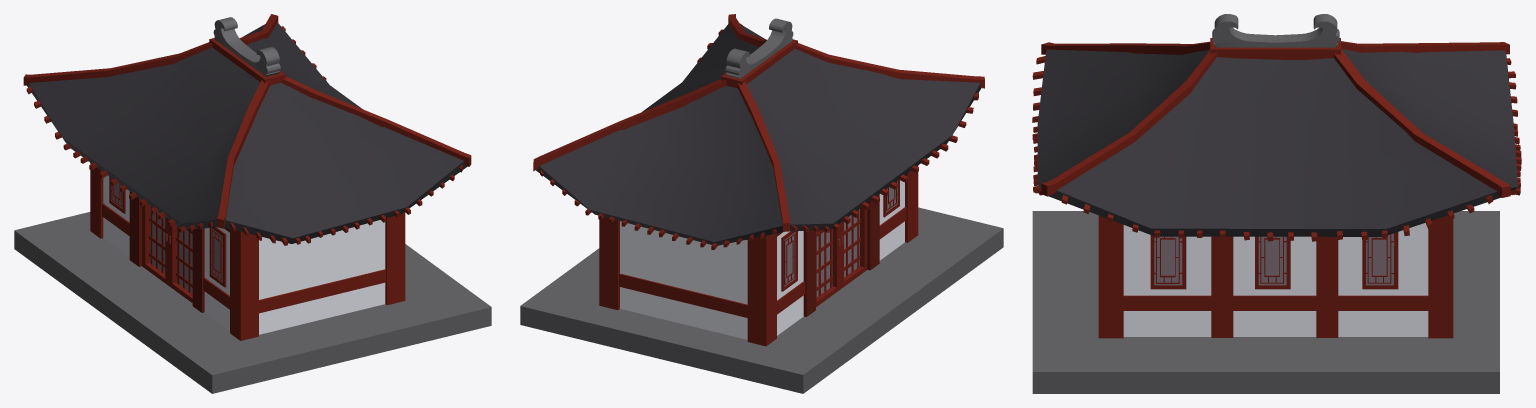
The model's file is houme016.fbx.
3 renders of one model, left to right at view 1: azimuth 30°, elevation 25°; view 2: azimuth 150°, elevation 25°; view 3: azimuth 270°, elevation 25°, orthographic. The views are drawn at different scales.
Parts seen in each view (by area): view 1: houme_16, foundation_16_1, on_the_roof_16_1; view 2: houme_16, foundation_16_1, on_the_roof_16_1; view 3: houme_16, foundation_16_1, on_the_roof_16_1.
Boxes of the visible parts, left/top/right/bottom form: houme_16: left=23, top=14, right=471, bottom=340; foundation_16_1: left=14, top=212, right=491, bottom=393; on_the_roof_16_1: left=213, top=17, right=280, bottom=76; houme_16: left=533, top=14, right=984, bottom=346; foundation_16_1: left=520, top=207, right=1003, bottom=393; on_the_roof_16_1: left=725, top=18, right=793, bottom=78; houme_16: left=1032, top=38, right=1521, bottom=338; foundation_16_1: left=1032, top=211, right=1499, bottom=393; on_the_roof_16_1: left=1212, top=14, right=1339, bottom=47.
Size of the model in its own units: 1131 by 967 by 1455.
